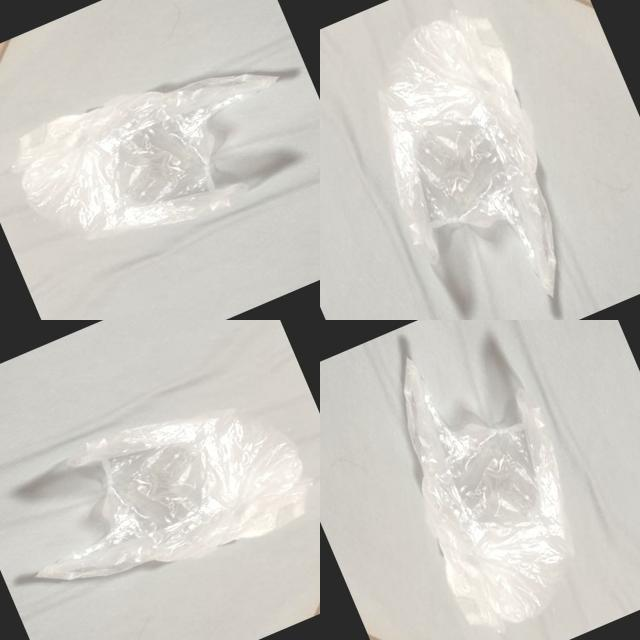Single-layer Plastic: (381, 11, 556, 296), (36, 409, 311, 580), (404, 359, 571, 630), (14, 74, 278, 236)
